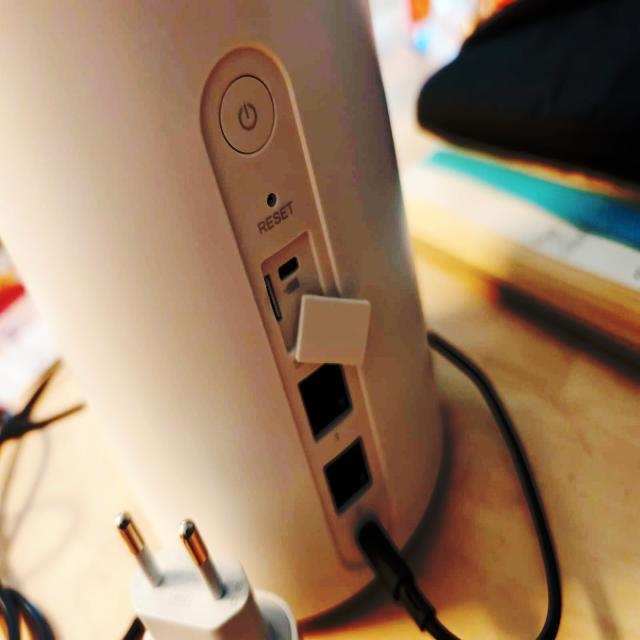lan: (326, 438, 373, 512)
modem: (0, 0, 448, 615)
onbutton: (220, 74, 276, 158)
powcab: (342, 515, 596, 639)
siminside: (256, 250, 281, 329)
